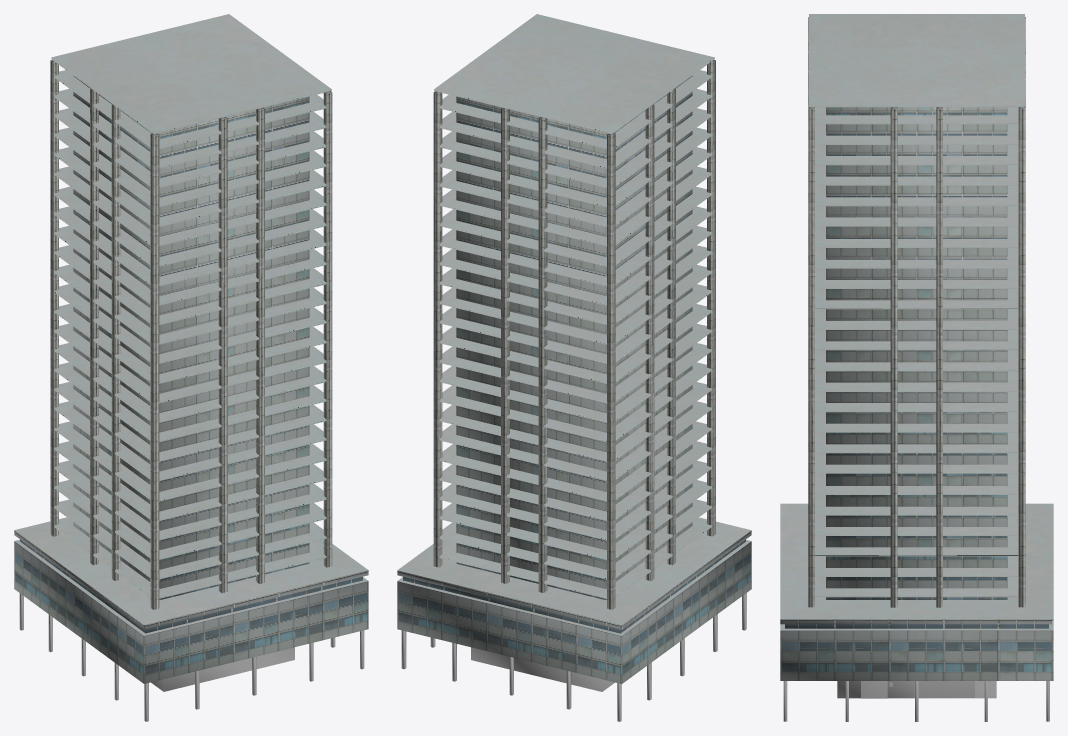
File: c2_tower1.fbx
The picture shows the model from 3 angles, left to right: view 1: azimuth 30°, elevation 25°; view 2: azimuth 150°, elevation 25°; view 3: azimuth 270°, elevation 25°; orthographic projection. The views are drawn at different scales.
Visible parts, largest first — view 1: tower_mesh; view 2: tower_mesh; view 3: tower_mesh.
Part boxes in pixels (left/top/right/bottom): tower_mesh: left=14, top=14, right=368, bottom=721; tower_mesh: left=397, top=14, right=751, bottom=721; tower_mesh: left=780, top=14, right=1053, bottom=721.
Bounding box in the file's own units: 2400 × 5874 × 2400.
